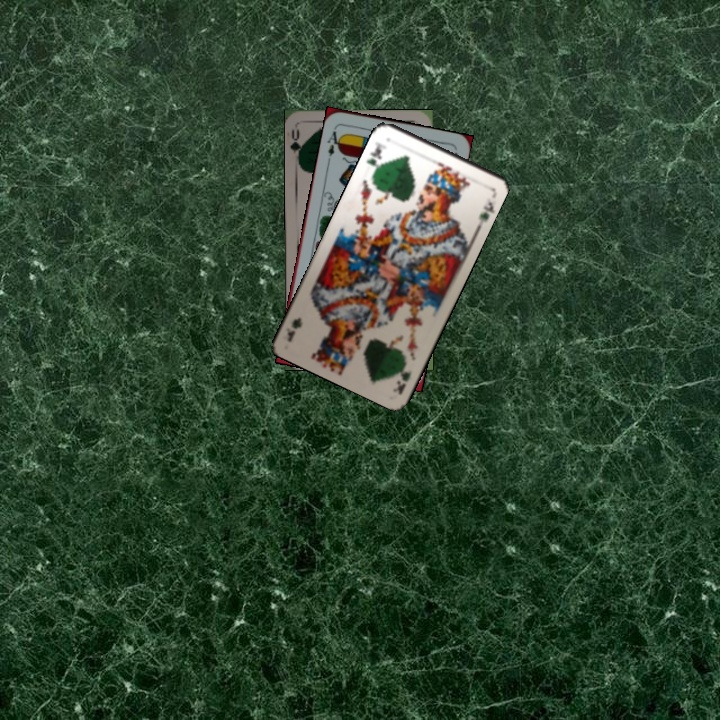EA: (323, 123, 345, 164)
GK: (363, 138, 390, 175), (389, 355, 413, 396)
GO: (288, 125, 307, 165)
